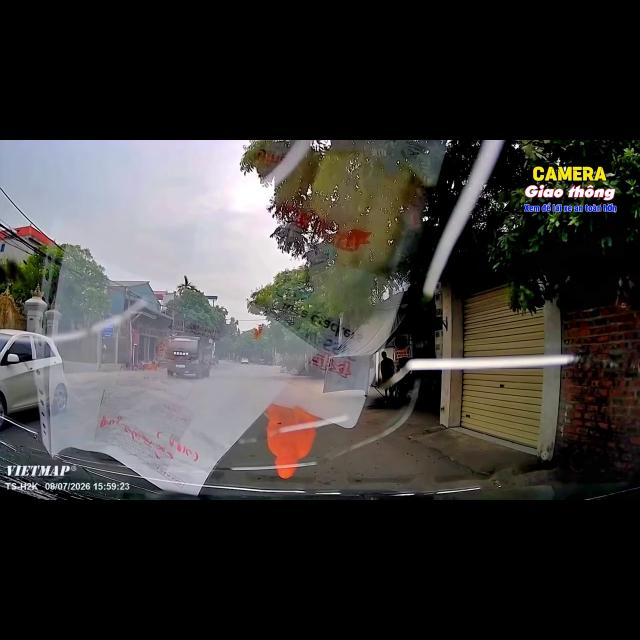car: (0, 329, 63, 429), (240, 357, 249, 364), (258, 359, 264, 364)
truck: (166, 334, 213, 377)
